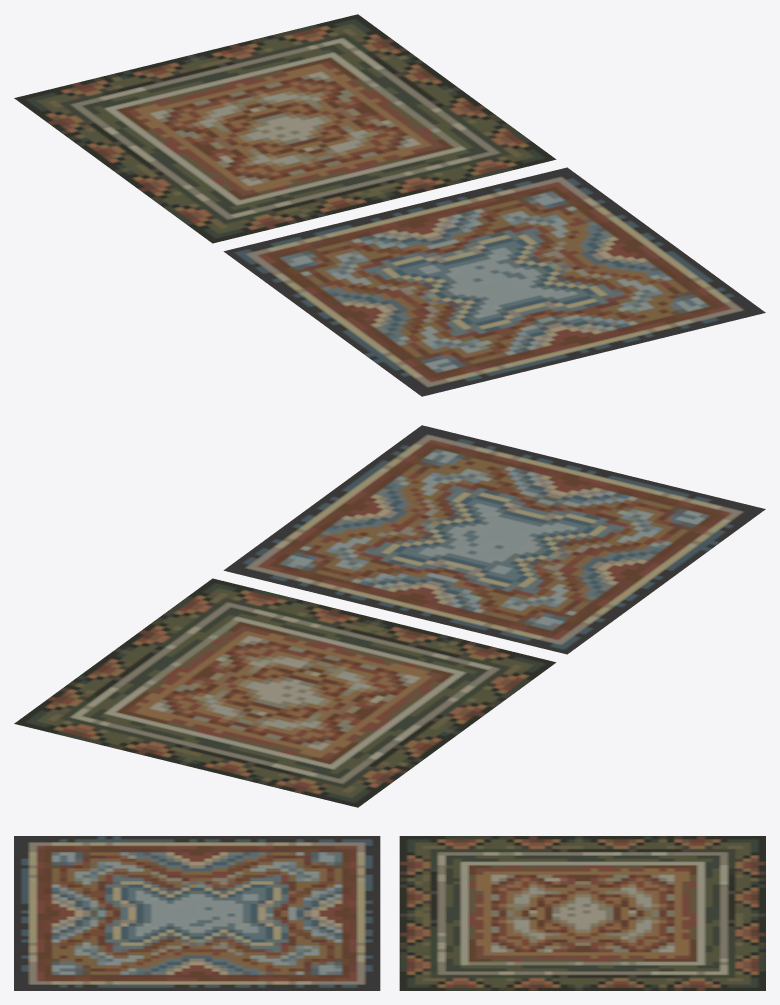
Rendered from ObjMD_Desert_Carpet_B.FBX.
The picture shows the model from 3 angles, top to bottom: view 1: azimuth 30°, elevation 25°; view 2: azimuth 150°, elevation 25°; view 3: azimuth 270°, elevation 25°; orthographic projection. The views are drawn at different scales.
Parts seen in each view (by area): view 1: ObjMD_Desert_Carpet_B, ObjMD_Desert_Carpet_C; view 2: ObjMD_Desert_Carpet_B, ObjMD_Desert_Carpet_C; view 3: ObjMD_Desert_Carpet_B, ObjMD_Desert_Carpet_C.
Part boxes in pixels (x1=…): ObjMD_Desert_Carpet_B: x1=223, y1=167, x2=765, y2=396; ObjMD_Desert_Carpet_C: x1=14, y1=14, x2=556, y2=243; ObjMD_Desert_Carpet_B: x1=223, y1=425, x2=765, y2=654; ObjMD_Desert_Carpet_C: x1=14, y1=578, x2=556, y2=807; ObjMD_Desert_Carpet_B: x1=14, y1=836, x2=380, y2=990; ObjMD_Desert_Carpet_C: x1=399, y1=836, x2=765, y2=990.
Size of the model in its own units: 300 by 3.03e-05 by 616.
